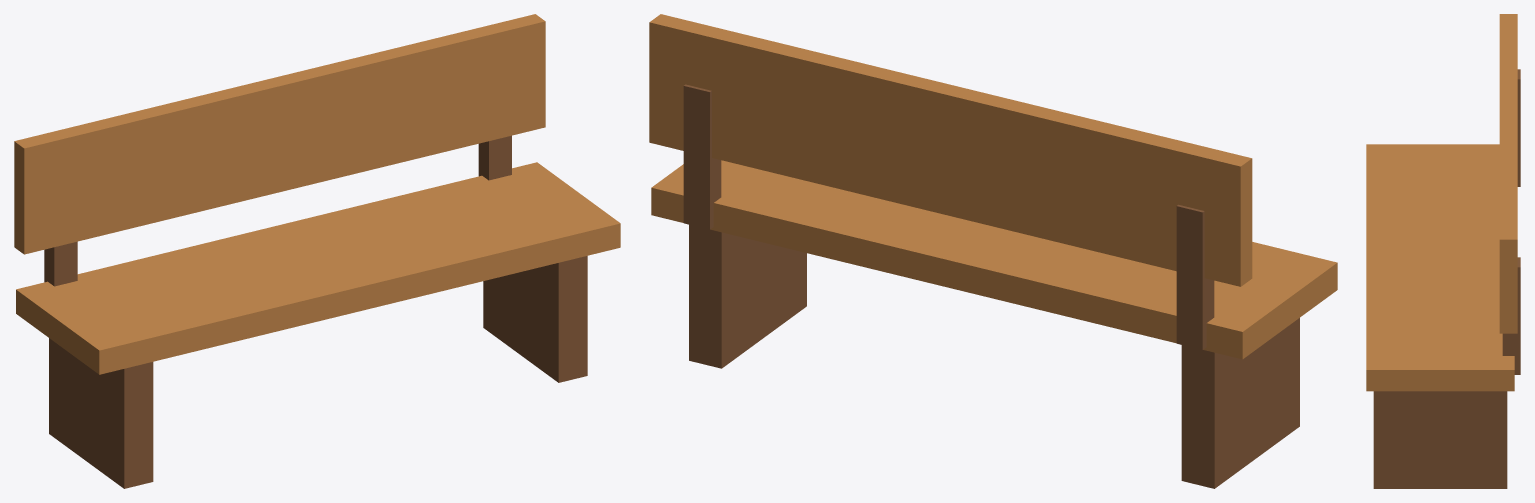
Rendered from bench.glb.
The picture shows the model from 3 angles, left to right: view 1: azimuth 30°, elevation 25°; view 2: azimuth 150°, elevation 25°; view 3: azimuth 270°, elevation 25°; orthographic projection. The views are drawn at different scales.
Parts seen in each view (by area): view 1: bench; view 2: bench; view 3: bench.
Boxes of the visible parts, x1,y1,x2,y2 form: bench: (14, 14, 620, 488); bench: (649, 14, 1337, 488); bench: (1366, 14, 1520, 488).
Bounding box in the file's own units: 1.8 × 0.975 × 0.52.
